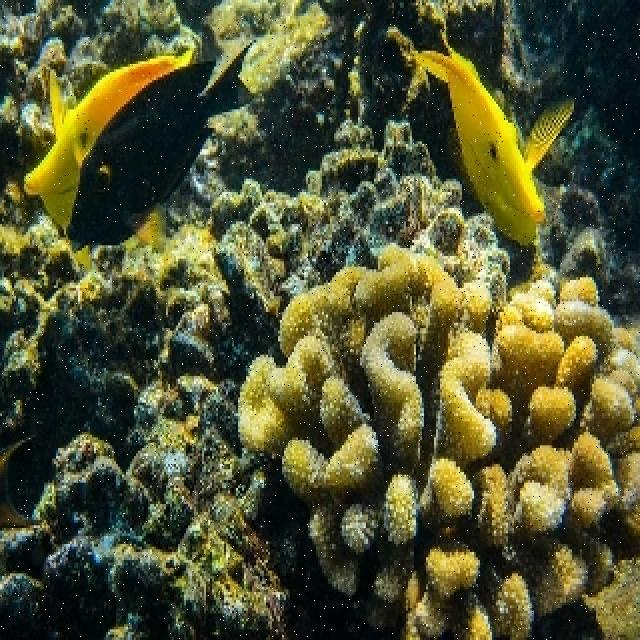fish: (67, 38, 259, 247), (410, 31, 575, 244), (23, 41, 198, 213)
reefs: (236, 240, 638, 637)
